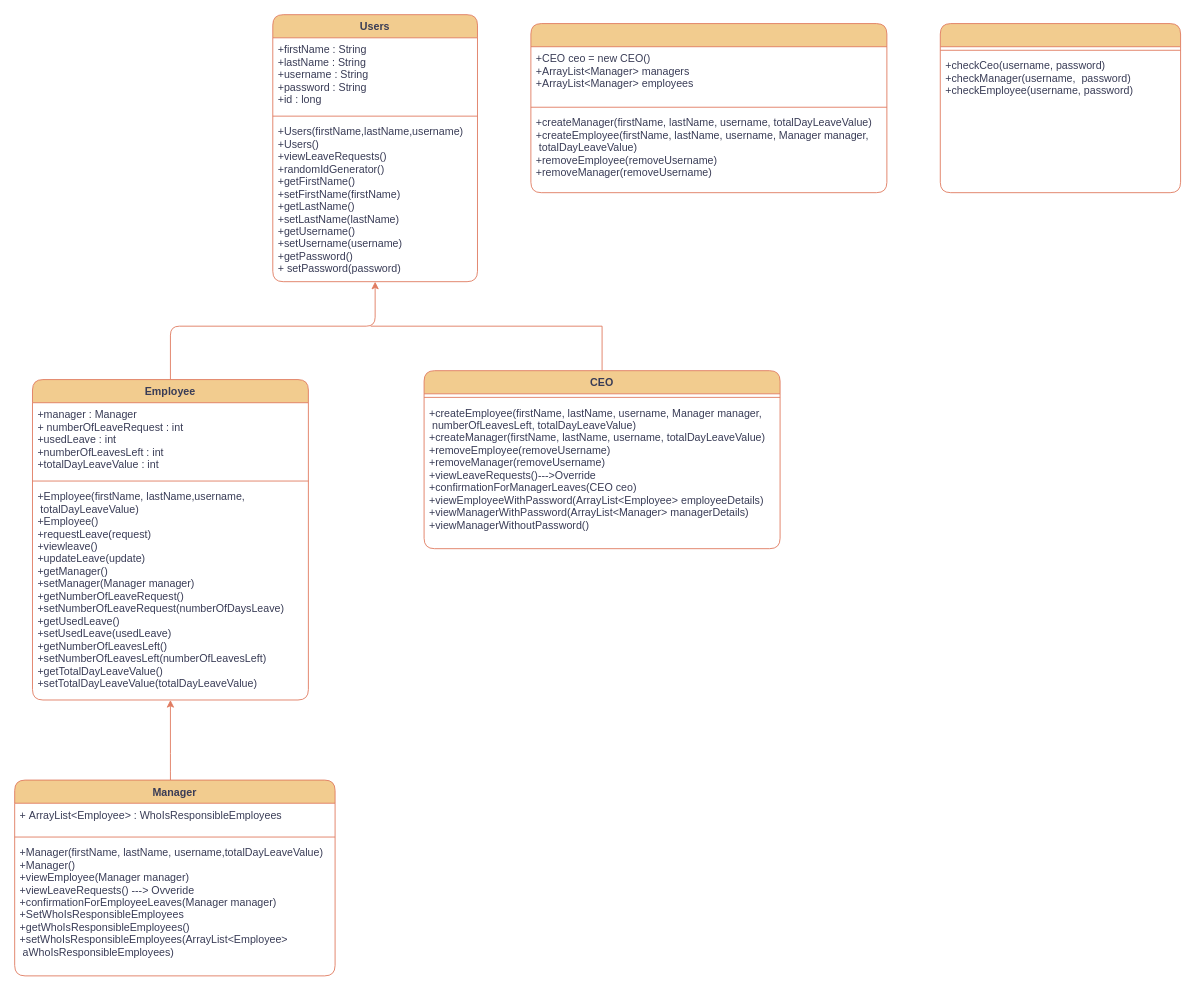
This 1195x991 diagram has some shape labels left out. Here are the shapes that lost their labels. From the top down, the box of each, then its label:
(530, 23, 887, 193): Company
(939, 23, 1181, 193): Login
